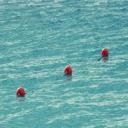red: (16, 86, 25, 96), (64, 66, 72, 75), (102, 48, 108, 56)
